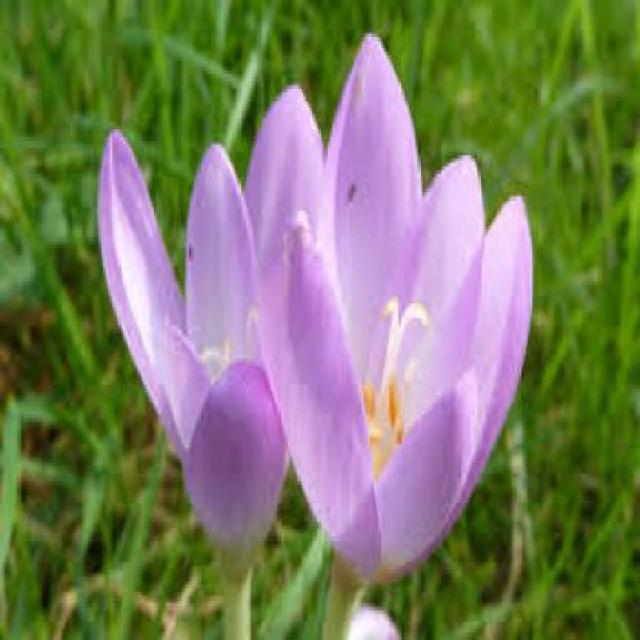saffron open: (248, 36, 532, 572), (100, 131, 286, 640)
